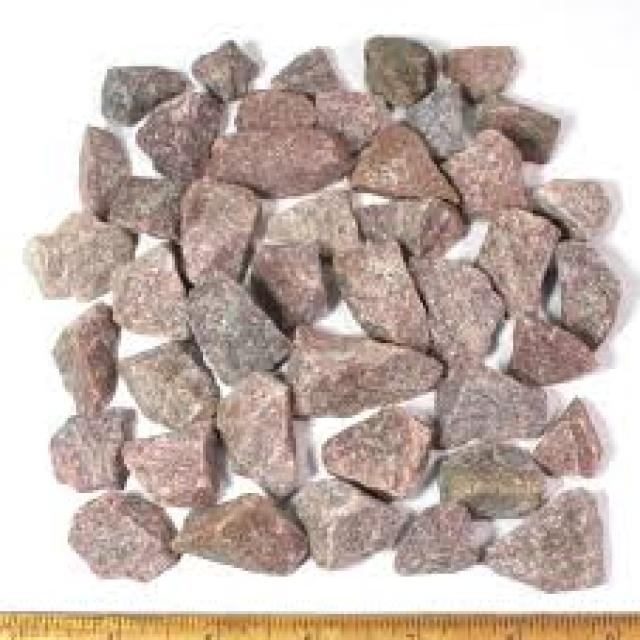Metamorphic: (20, 23, 623, 600)
